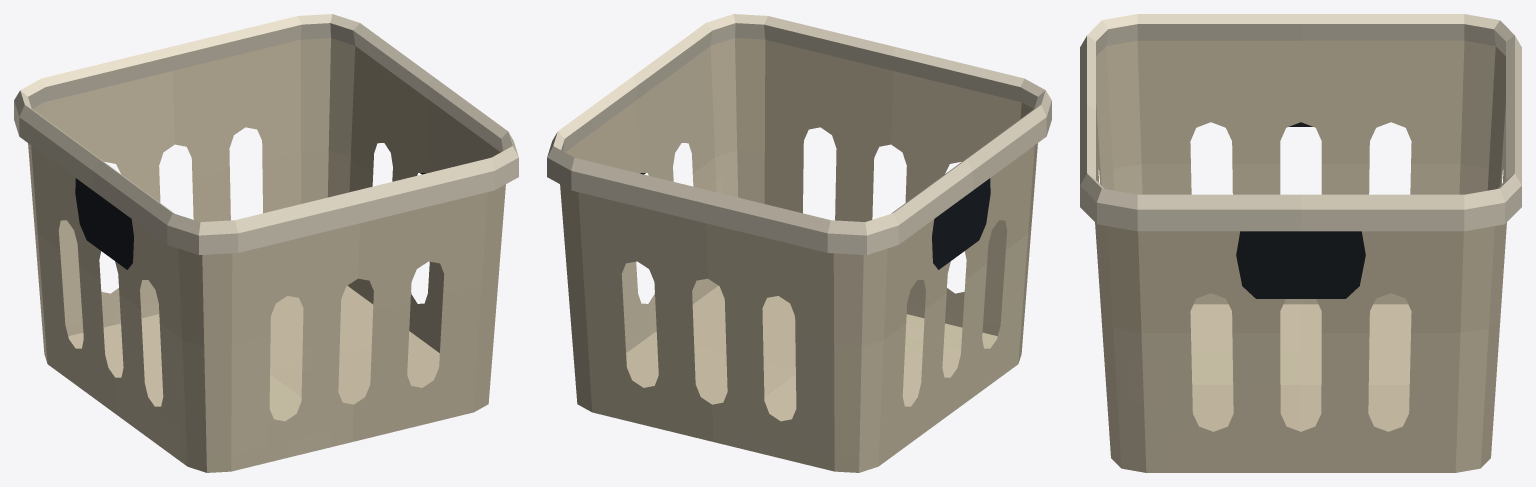
File: ir_teaching_tote.glb
3 views of the same model, side by side, from view 1: azimuth 30°, elevation 25°; view 2: azimuth 150°, elevation 25°; view 3: azimuth 270°, elevation 25° (orthographic). The views are drawn at different scales.
Parts seen in each view (by area): view 1: ir_teaching_tote, grip_hand_0; view 2: ir_teaching_tote, grip_hand_0; view 3: ir_teaching_tote, grip_hand_1.
Part boxes in pixels (bbox=[...]): ir_teaching_tote: bbox=[14, 14, 518, 472]; grip_hand_0: bbox=[75, 178, 133, 269]; ir_teaching_tote: bbox=[547, 14, 1051, 472]; grip_hand_0: bbox=[932, 178, 990, 269]; ir_teaching_tote: bbox=[1080, 14, 1521, 472]; grip_hand_1: bbox=[1236, 231, 1365, 298].
Size of the model in its own units: 0.5 by 0.36 by 0.5.
Materials: 3 (3 with a texture image).
